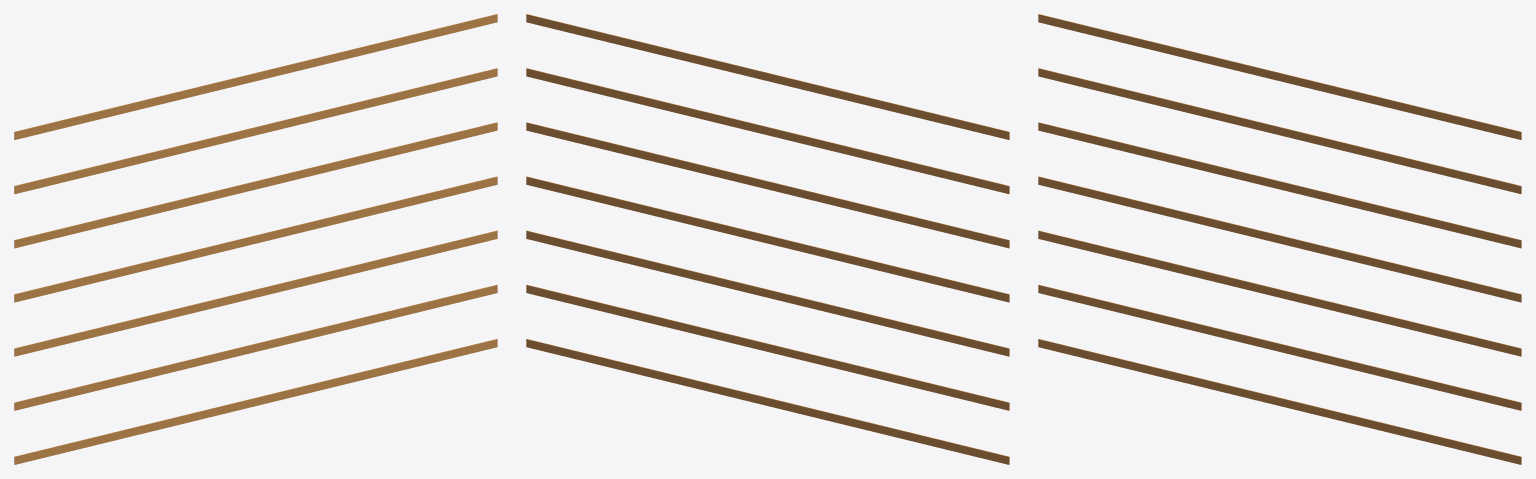
Rendered from 078_L100_Factory_Copper_Reference.glb.
The picture shows the model from 3 angles, left to right: view 1: azimuth 30°, elevation 25°; view 2: azimuth 150°, elevation 25°; view 3: azimuth 330°, elevation 25°; orthographic projection.
Visible parts, largest first — view 1: FactoryOnly_Copper_Path_3, FactoryOnly_Copper_Path_0, FactoryOnly_Copper_Path_1, FactoryOnly_Copper_Path_2, FactoryOnly_Copper_Path_4, FactoryOnly_Copper_Path_5, FactoryOnly_Copper_Path_6; view 2: FactoryOnly_Copper_Path_3, FactoryOnly_Copper_Path_0, FactoryOnly_Copper_Path_1, FactoryOnly_Copper_Path_2, FactoryOnly_Copper_Path_4, FactoryOnly_Copper_Path_5, FactoryOnly_Copper_Path_6; view 3: FactoryOnly_Copper_Path_3, FactoryOnly_Copper_Path_0, FactoryOnly_Copper_Path_1, FactoryOnly_Copper_Path_2, FactoryOnly_Copper_Path_4, FactoryOnly_Copper_Path_5, FactoryOnly_Copper_Path_6.
Part boxes in pixels (x1,y1,x2,y2): FactoryOnly_Copper_Path_3: [14, 176, 497, 302]; FactoryOnly_Copper_Path_0: [14, 339, 497, 464]; FactoryOnly_Copper_Path_1: [14, 285, 497, 410]; FactoryOnly_Copper_Path_2: [14, 230, 497, 356]; FactoryOnly_Copper_Path_4: [14, 122, 497, 248]; FactoryOnly_Copper_Path_5: [14, 68, 497, 193]; FactoryOnly_Copper_Path_6: [14, 14, 497, 139]; FactoryOnly_Copper_Path_3: [526, 176, 1009, 302]; FactoryOnly_Copper_Path_0: [526, 339, 1009, 464]; FactoryOnly_Copper_Path_1: [526, 285, 1009, 410]; FactoryOnly_Copper_Path_2: [526, 230, 1009, 356]; FactoryOnly_Copper_Path_4: [526, 122, 1009, 248]; FactoryOnly_Copper_Path_5: [526, 68, 1009, 193]; FactoryOnly_Copper_Path_6: [526, 14, 1009, 139]; FactoryOnly_Copper_Path_3: [1038, 176, 1521, 302]; FactoryOnly_Copper_Path_0: [1038, 339, 1521, 464]; FactoryOnly_Copper_Path_1: [1038, 285, 1521, 410]; FactoryOnly_Copper_Path_2: [1038, 230, 1521, 356]; FactoryOnly_Copper_Path_4: [1038, 122, 1521, 248]; FactoryOnly_Copper_Path_5: [1038, 68, 1521, 193]; FactoryOnly_Copper_Path_6: [1038, 14, 1521, 139].
Bounding box in the file's own units: 0.014 × 0.00922 × 2.5e-05.
